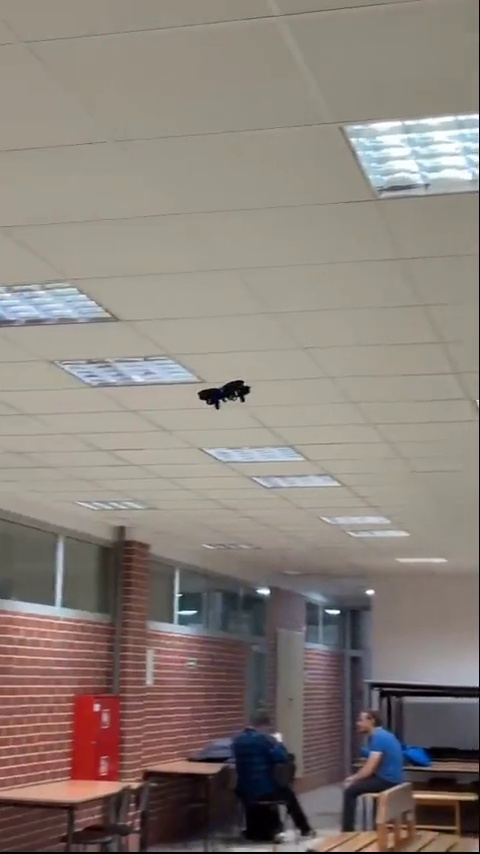drone: (194, 378, 253, 403)
no vest: (334, 707, 406, 808), (229, 707, 303, 803)
